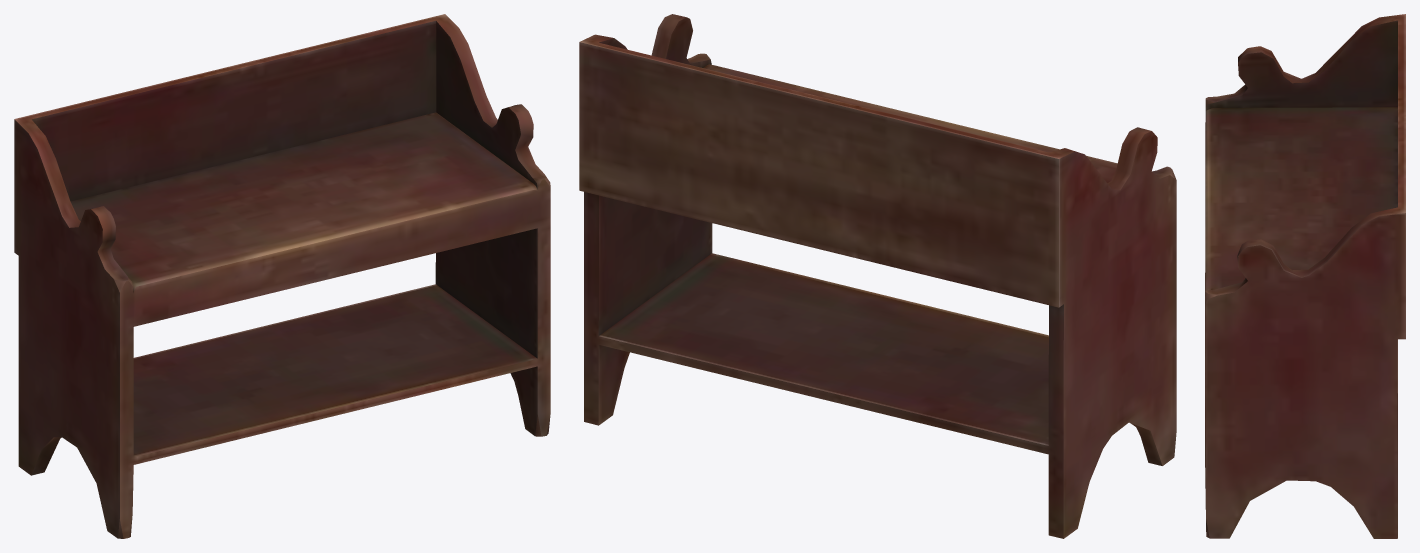
3 views of the same model, side by side, from view 1: azimuth 30°, elevation 25°; view 2: azimuth 150°, elevation 25°; view 3: azimuth 270°, elevation 25° (orthographic). The views are drawn at different scales.
Parts seen in each view (by area): view 1: painted_wooden_bench; view 2: painted_wooden_bench; view 3: painted_wooden_bench.
Boxes of the visible parts, <box> form: painted_wooden_bench: <box>14,14,550,538</box>; painted_wooden_bench: <box>579,14,1176,538</box>; painted_wooden_bench: <box>1205,14,1405,538</box>.
Bounding box in the file's own units: 1.16 × 0.8893 × 0.4965.
Materials: 1 (1 with a texture image).
